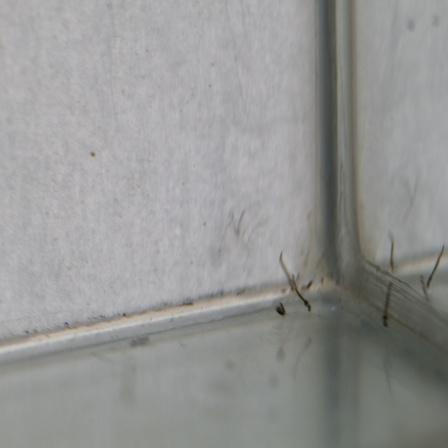Jentik-Nyamuk: (290, 272, 314, 317), (378, 279, 395, 331), (273, 300, 288, 318)
